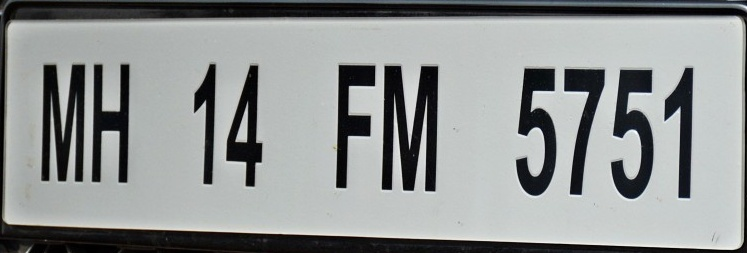character: (380, 61, 442, 195), (560, 64, 607, 199), (514, 64, 560, 199), (39, 57, 88, 182), (332, 60, 377, 191), (610, 67, 655, 198), (89, 59, 132, 186), (224, 60, 265, 191), (661, 64, 697, 202), (189, 59, 219, 190)
